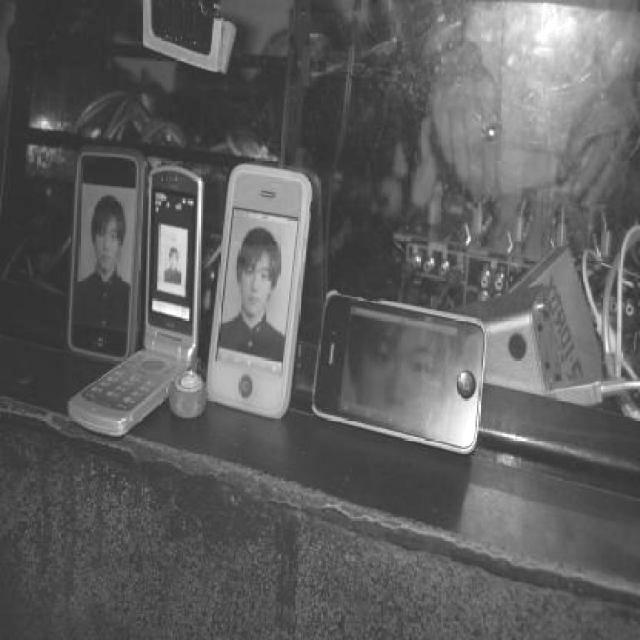fake: (68, 166, 202, 436), (309, 292, 491, 458), (189, 164, 305, 416), (66, 151, 143, 364)
